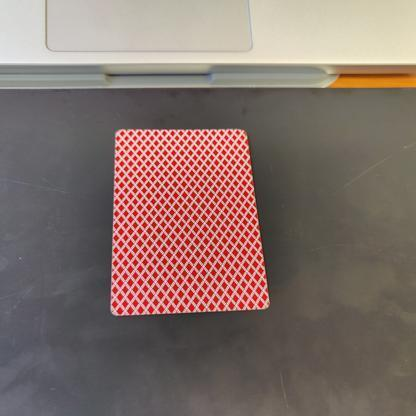card: (101, 125, 275, 320)
